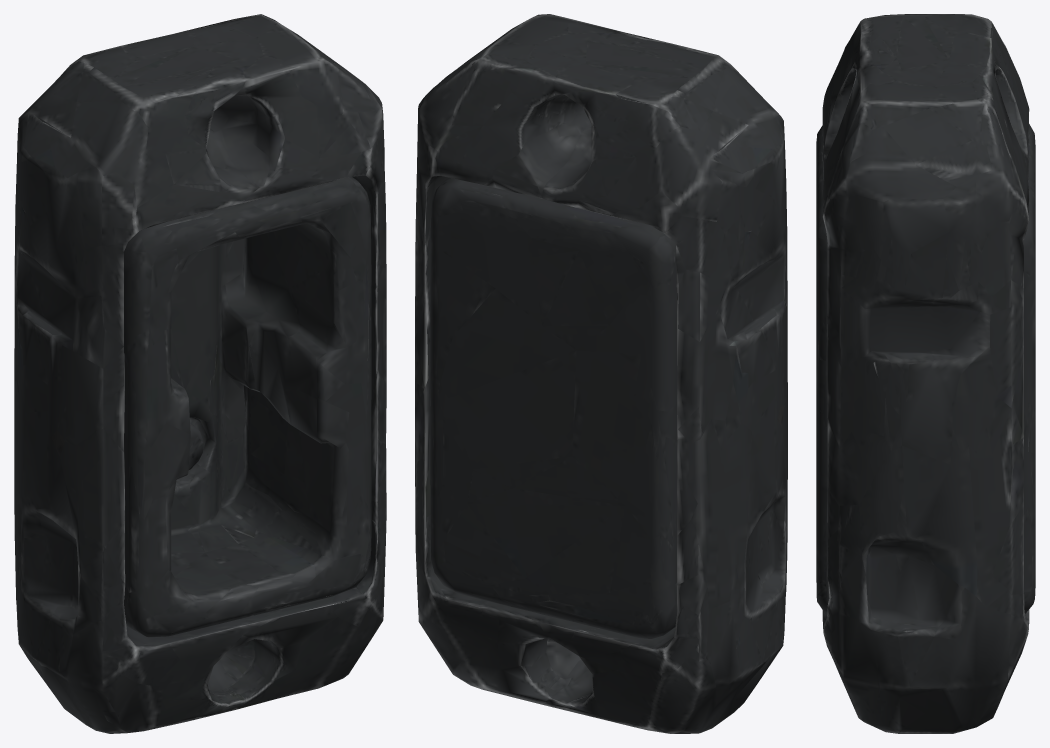
Rendered from base_interruptor.glb.
3 views of the same model, side by side, from view 1: azimuth 30°, elevation 25°; view 2: azimuth 150°, elevation 25°; view 3: azimuth 270°, elevation 25° (orthographic). The views are drawn at different scales.
Size of the model in its own units: 1.02 by 1.9 by 0.6101.
Materials: 1 (1 with a texture image).
